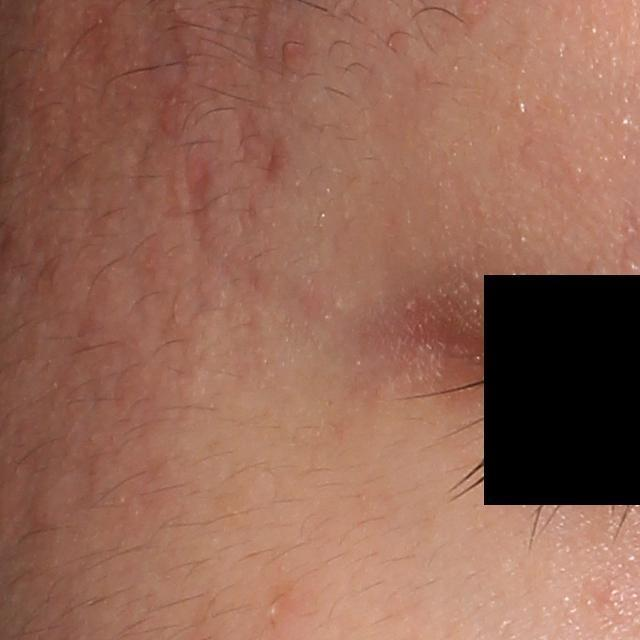atrophic_scar: (105, 120, 175, 342), (209, 246, 278, 391), (174, 147, 219, 264), (139, 6, 197, 89), (58, 166, 101, 259), (50, 441, 103, 516)
